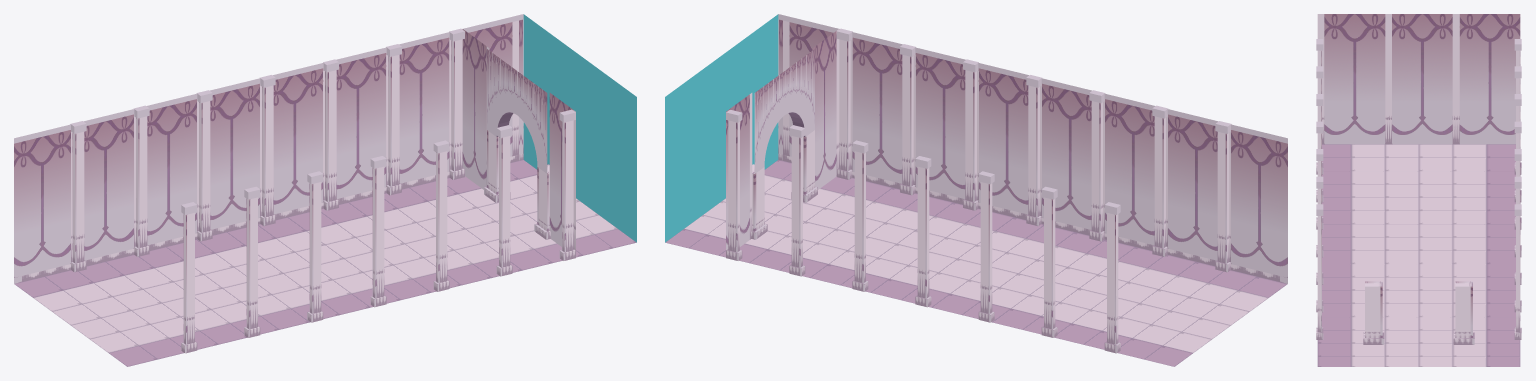
File: Luna0CasteloOriginal.glb
3 renders of one model, left to right at view 1: azimuth 30°, elevation 25°; view 2: azimuth 150°, elevation 25°; view 3: azimuth 270°, elevation 25°, orthographic. The views are drawn at different scales.
Parts seen in each view (by area): view 1: Setor_0; view 2: Setor_0; view 3: Setor_0.
Boxes of the visible parts, bbox=[...] form: Setor_0: bbox=[14, 14, 636, 366]; Setor_0: bbox=[665, 14, 1287, 366]; Setor_0: bbox=[1316, 14, 1521, 366].
Bounding box in the file's own units: 21.8 × 5.96 × 8.5.
1 material, 1 textured.
